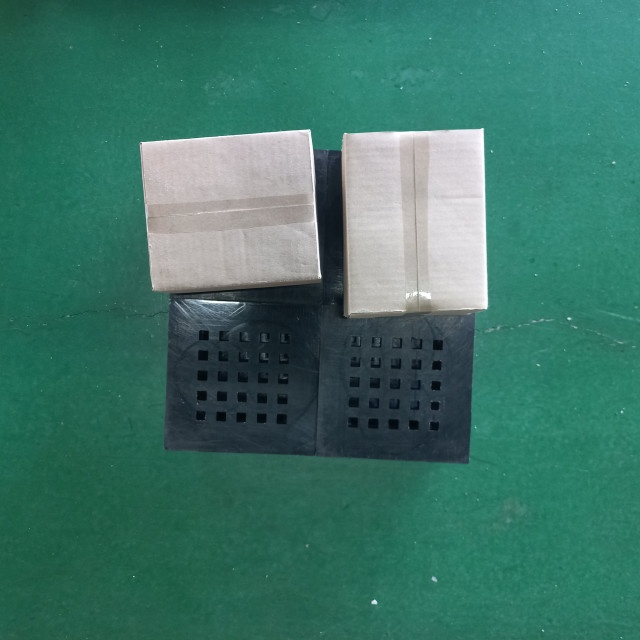box: (136, 126, 324, 298), (339, 125, 489, 320)
